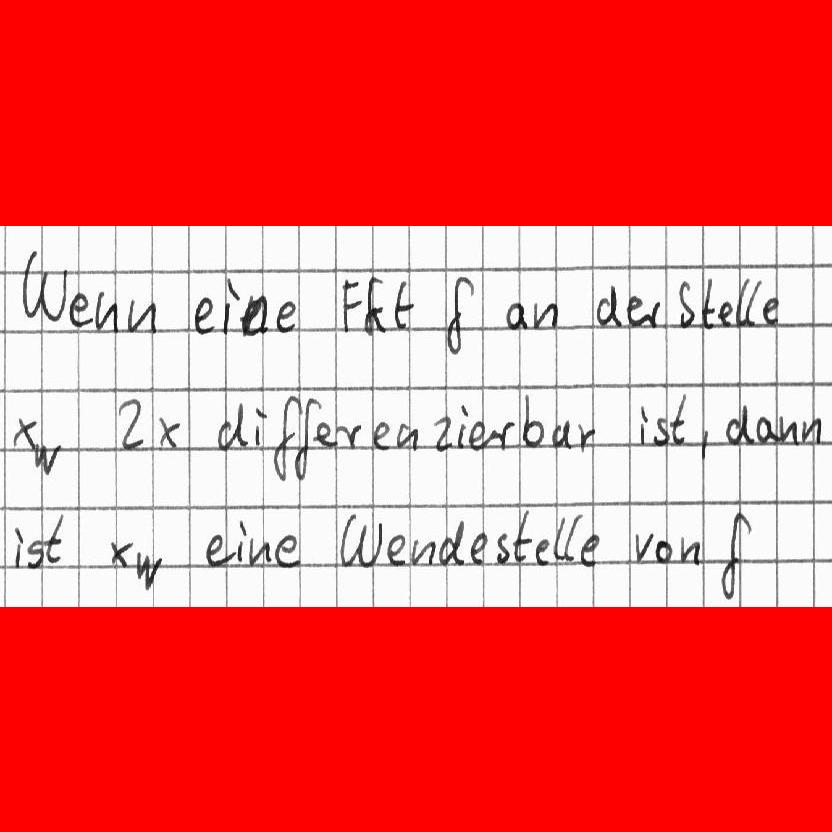Char: (20, 248, 69, 327), (716, 510, 750, 599), (270, 395, 299, 480), (340, 514, 381, 568), (443, 276, 472, 352), (116, 395, 146, 452), (216, 398, 247, 451), (337, 273, 362, 337), (362, 271, 387, 335), (11, 415, 40, 464), (239, 290, 268, 339), (439, 518, 467, 565), (594, 282, 622, 329), (391, 277, 416, 329), (520, 395, 543, 449), (135, 549, 163, 591), (512, 508, 532, 566), (725, 403, 751, 446), (93, 288, 117, 334), (734, 277, 757, 325), (44, 516, 66, 566), (127, 296, 155, 334), (32, 442, 62, 477), (228, 515, 248, 567), (220, 276, 237, 336), (155, 413, 181, 452), (670, 391, 688, 446), (675, 277, 694, 329), (275, 533, 303, 568), (193, 294, 215, 336), (106, 537, 133, 571), (273, 296, 296, 335), (487, 419, 514, 451), (531, 300, 558, 331), (553, 515, 571, 561), (433, 414, 453, 454), (410, 536, 437, 565), (677, 535, 701, 566), (70, 292, 90, 329), (504, 300, 527, 332), (205, 535, 228, 567), (701, 277, 715, 328), (396, 422, 420, 451), (386, 533, 407, 566), (550, 418, 571, 451), (798, 415, 821, 445), (632, 530, 652, 564), (337, 422, 361, 449), (626, 296, 646, 328), (574, 421, 595, 450), (646, 298, 665, 330), (372, 420, 392, 450), (581, 533, 599, 566), (470, 532, 488, 565), (249, 537, 270, 565), (253, 404, 266, 449), (651, 414, 669, 446), (755, 415, 774, 445), (313, 419, 332, 449), (494, 531, 511, 564), (457, 403, 469, 449), (760, 295, 779, 324), (777, 418, 798, 444), (534, 536, 552, 565), (26, 540, 43, 568), (654, 538, 673, 563), (12, 527, 24, 566), (716, 299, 733, 326), (638, 403, 649, 444), (470, 421, 486, 448), (698, 425, 711, 457)
